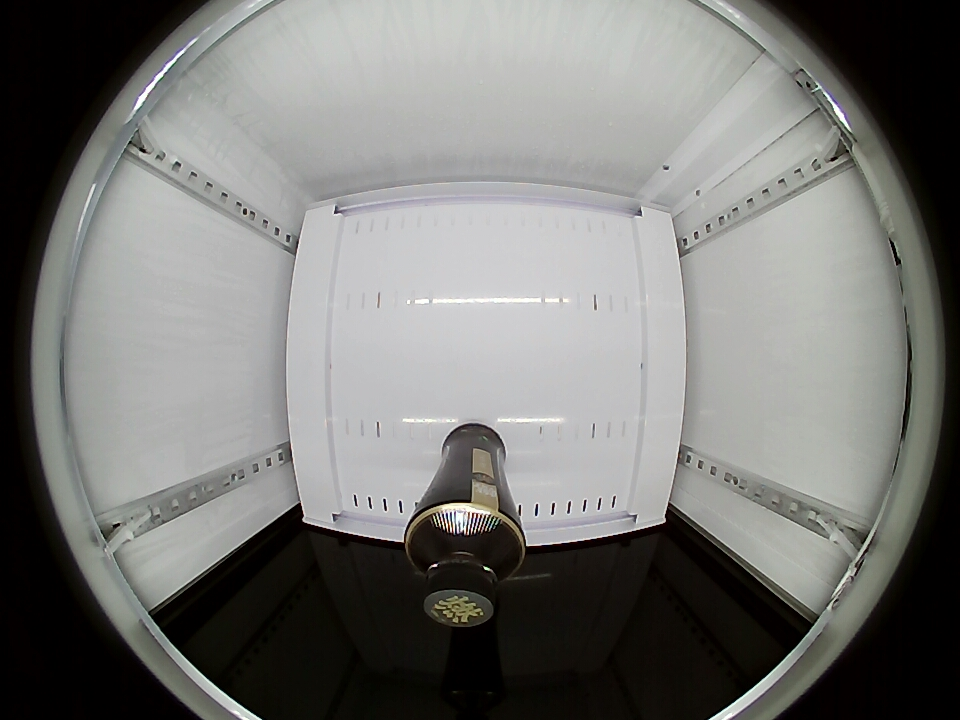rancha-1: (404, 502, 527, 626)
